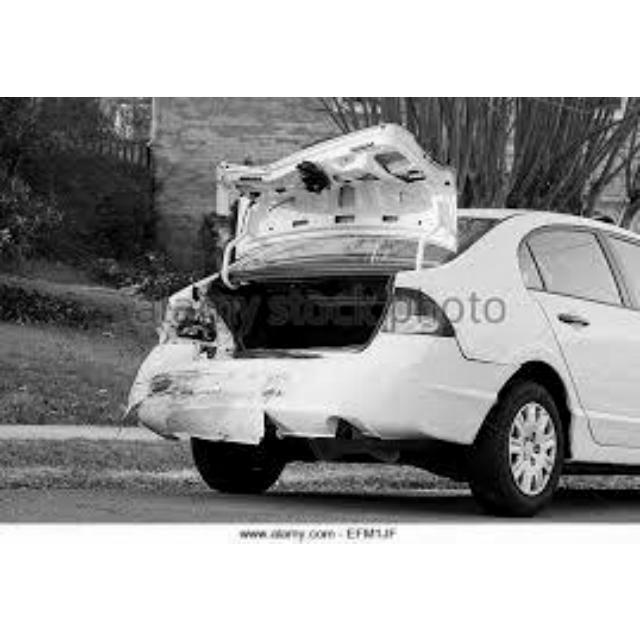rear-bumper-dent: (141, 344, 345, 439)
